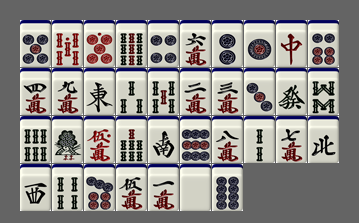0m: (84, 116, 115, 163)
0p: (84, 20, 115, 67)
0s: (52, 20, 83, 67)
1m: (148, 164, 179, 211)
1p: (244, 20, 275, 67)
1s: (52, 116, 83, 163)
1z: (84, 68, 115, 115)
2m: (180, 68, 211, 115)
2p: (212, 20, 243, 67)
2s: (244, 116, 275, 163)
2z: (148, 116, 179, 163)
3m: (212, 68, 243, 115)
3p: (244, 68, 275, 115)
3s: (116, 68, 147, 115)
3z: (20, 164, 51, 211)
4m: (20, 68, 51, 115)
4p: (148, 20, 179, 67)
4s: (52, 164, 83, 211)
4z: (308, 116, 339, 163)
5m: (116, 164, 147, 211)
5p: (20, 20, 51, 67)
5s: (148, 68, 179, 115)
5z: (180, 164, 211, 211)
6m: (180, 20, 211, 67)
6p: (308, 20, 339, 67)
6s: (20, 116, 51, 163)
6z: (276, 68, 307, 115)
7m: (276, 116, 307, 163)
7p: (84, 164, 115, 211)
7s: (116, 116, 147, 163)
7z: (276, 20, 307, 67)
8m: (212, 116, 243, 163)
8p: (212, 164, 243, 211)
8s: (308, 68, 339, 115)
9m: (52, 68, 83, 115)
9p: (180, 116, 211, 163)
9s: (116, 20, 147, 67)
